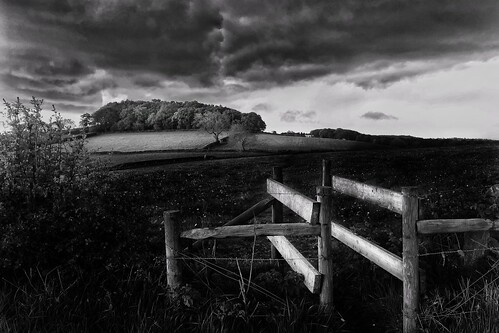grass: (145, 143, 499, 333)
sky: (1, 1, 494, 129)
vegetation: (93, 97, 264, 134)
